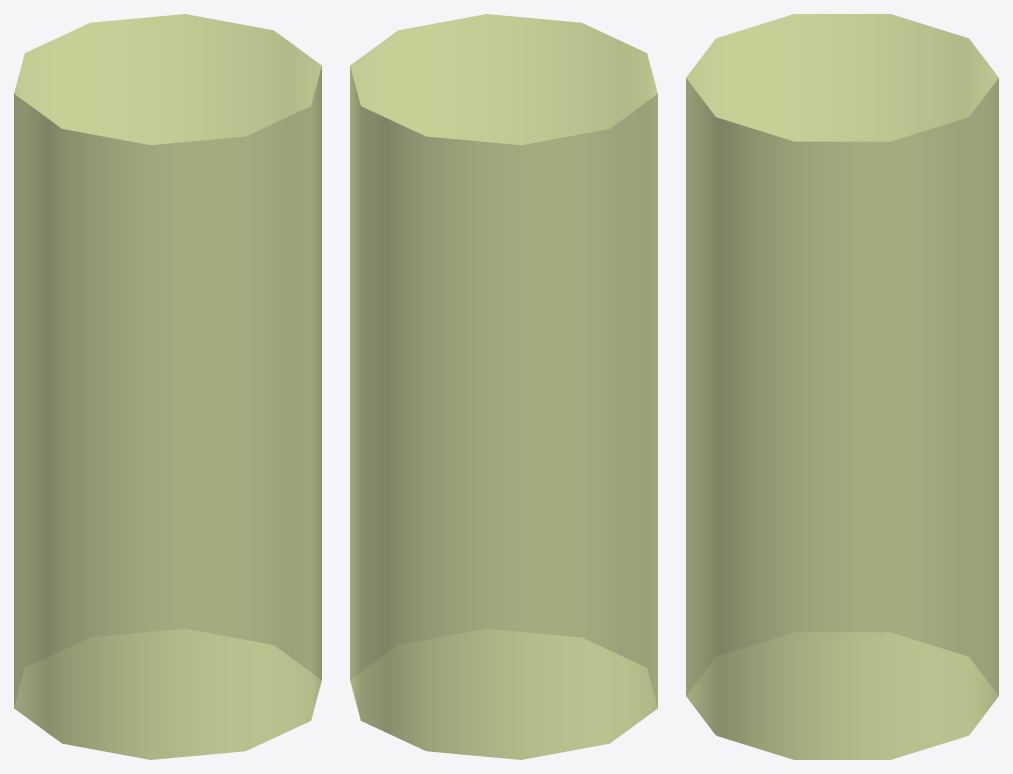
File: SM_石墨化炭黑柱002.fbx
3 views of the same model, side by side, from view 1: azimuth 30°, elevation 25°; view 2: azimuth 150°, elevation 25°; view 3: azimuth 270°, elevation 25° (orthographic).
Parts seen in each view (by area): view 1: SM_石墨化炭黑柱002; view 2: SM_石墨化炭黑柱002; view 3: SM_石墨化炭黑柱002.
Boxes of the visible parts, x1=… form: SM_石墨化炭黑柱002: x1=14, y1=14, x2=321, y2=759; SM_石墨化炭黑柱002: x1=350, y1=14, x2=657, y2=759; SM_石墨化炭黑柱002: x1=686, y1=14, x2=998, y2=759.
Bounding box in the file's own units: 0.00826 × 0.0187 × 0.00857.
